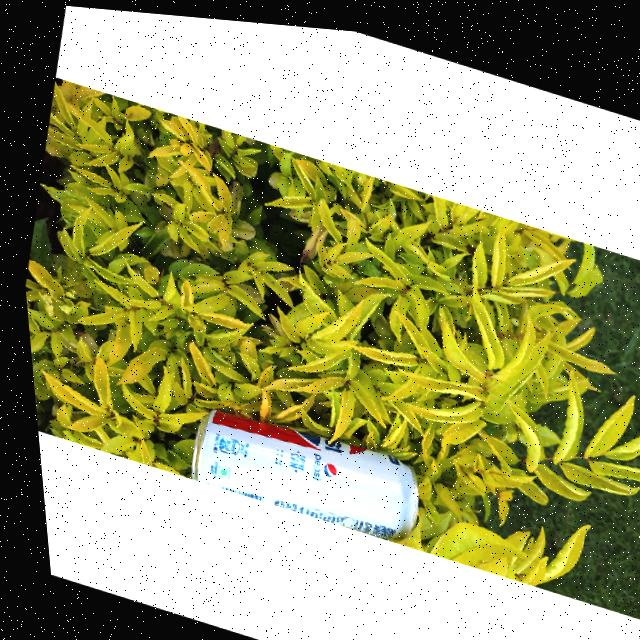Pepsi Retro: (177, 393, 423, 543)
